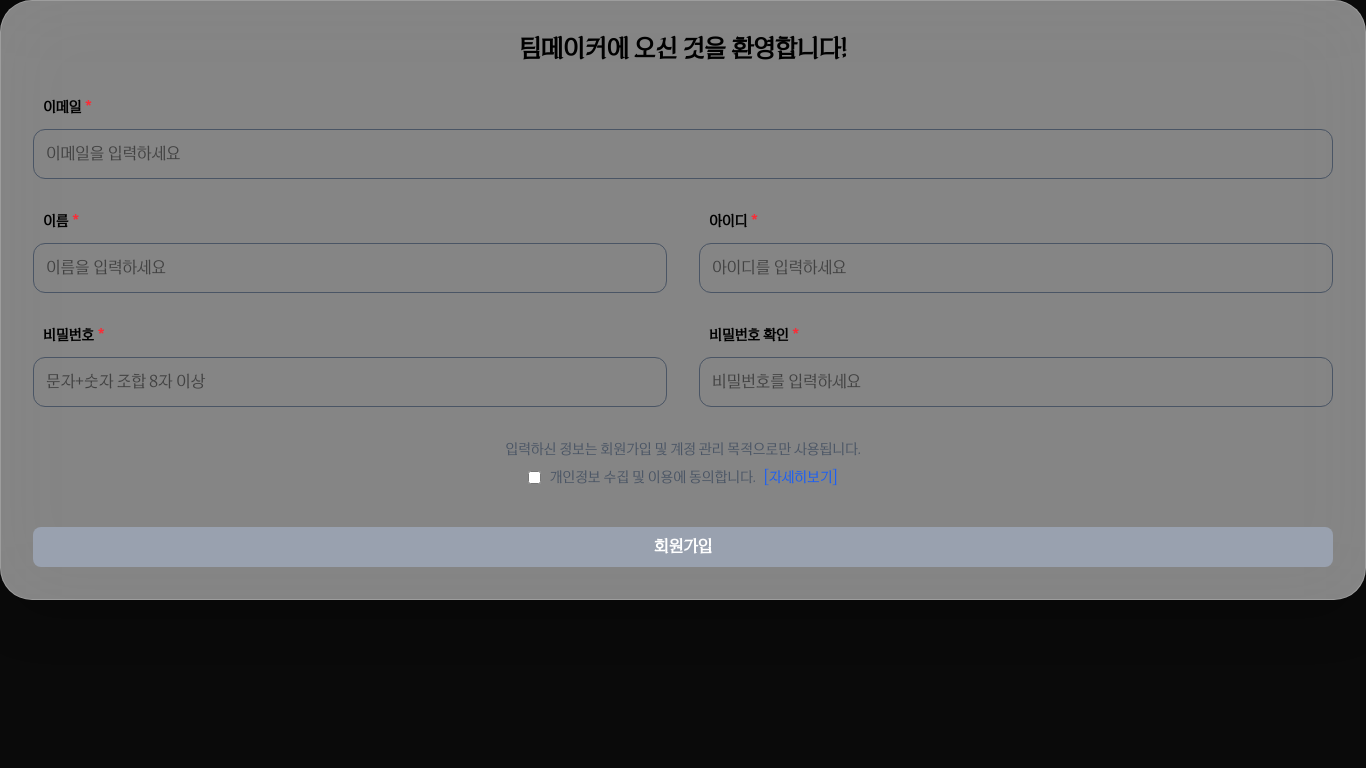
Test case: SignUp Component › 필수 필드가 비어있으면 에러 메시지가 표시되어야 한다
//  체크박스 체크
Click the checkbox.
click(535, 477)  # box 528,470 -> 542,484
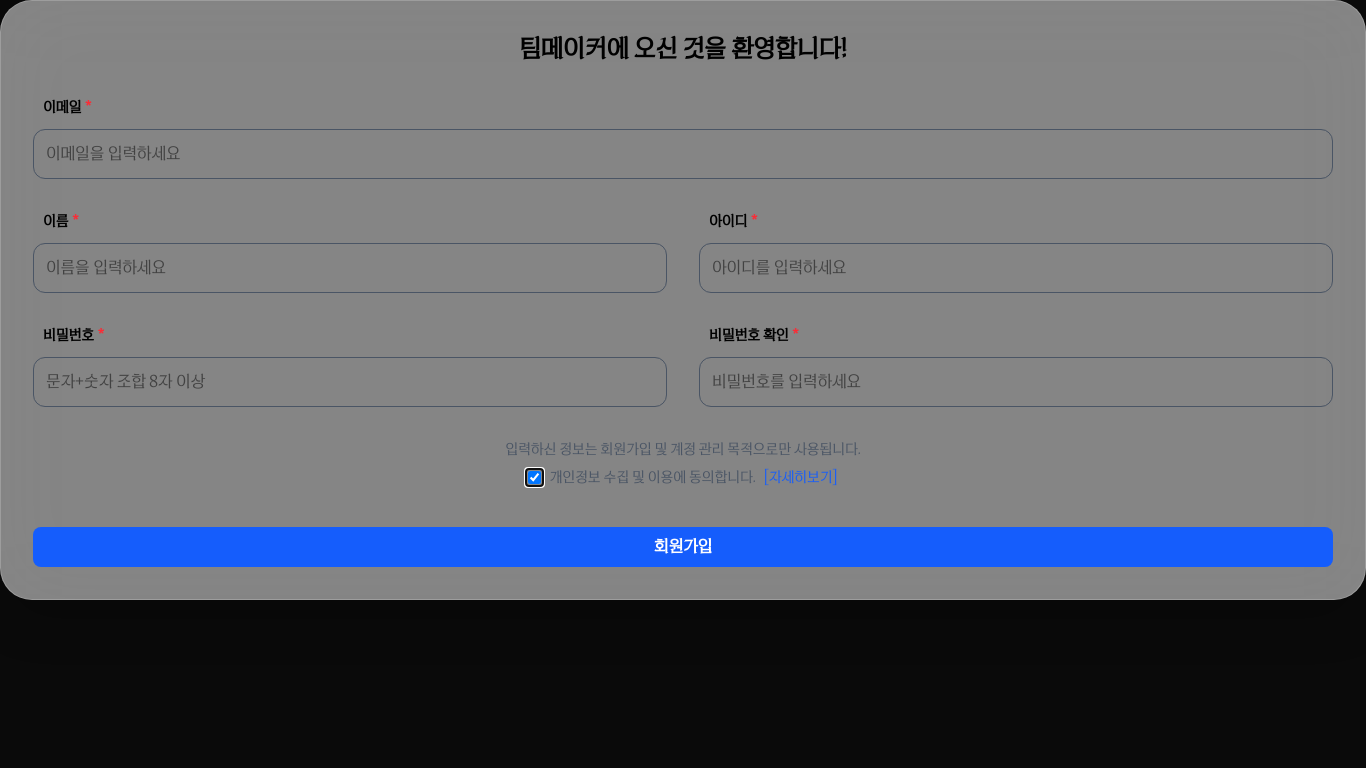
Click the button "회원가입".
click(683, 547)  # box 33,527 -> 1333,567
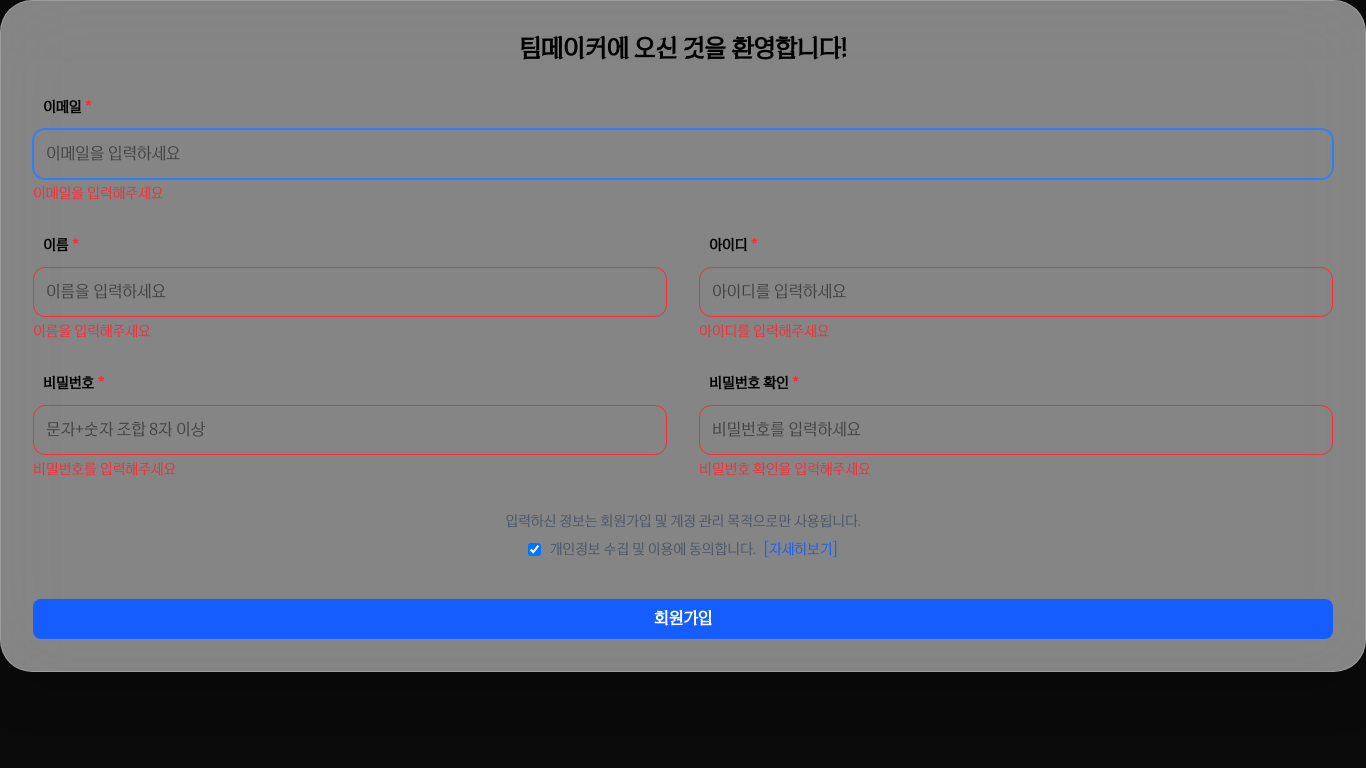
Check: the text "이메일을 입력해주세요" is shown, box 33,184 -> 163,202
